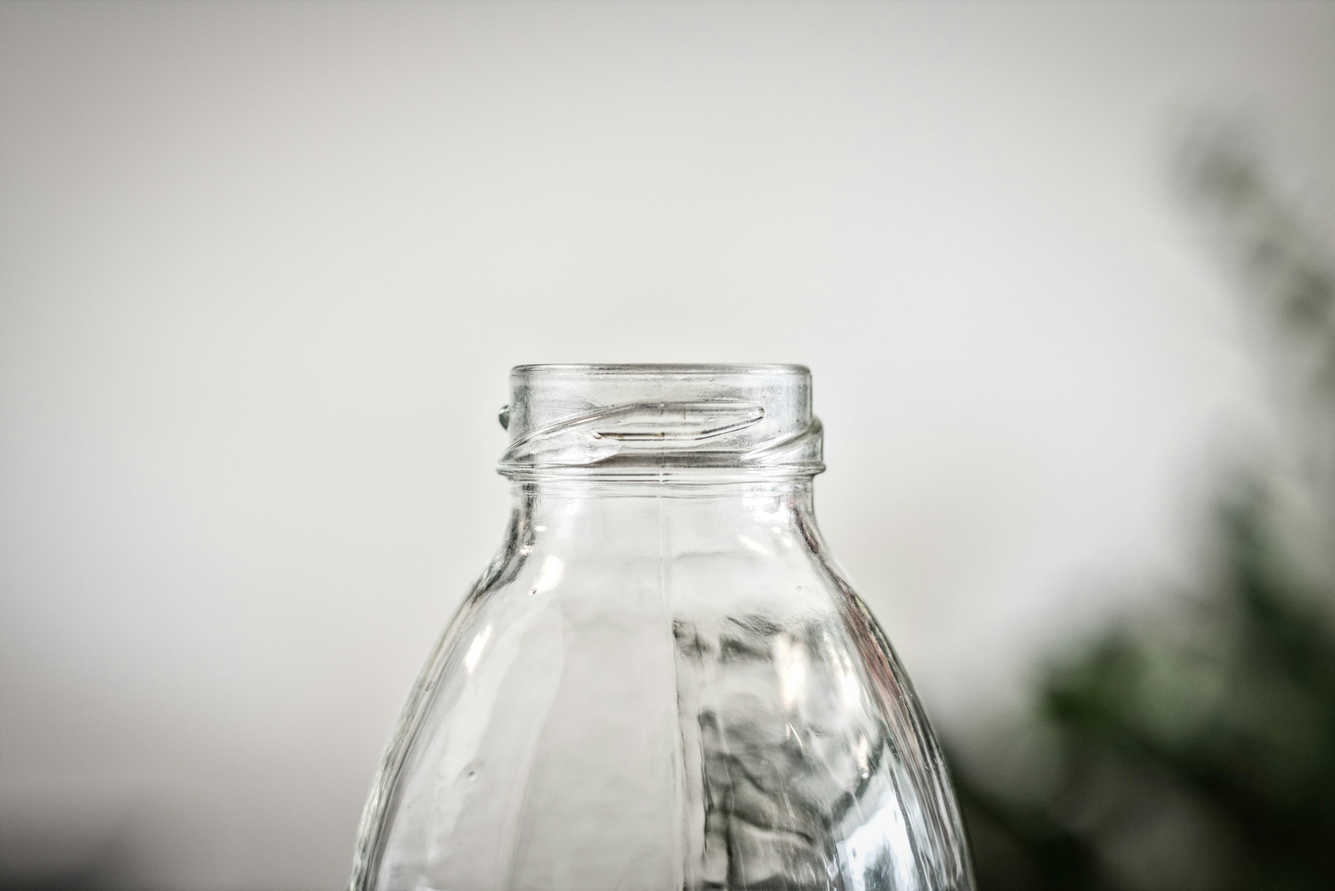Bottle-Detection: (308, 290, 1006, 891)
